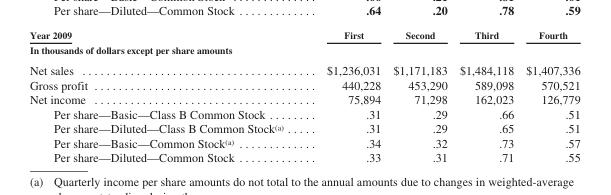table: (28, 29, 579, 163)
table column: (28, 29, 304, 163), (304, 29, 386, 163), (452, 29, 519, 163), (386, 29, 452, 163), (519, 29, 579, 163)
table column header: (28, 29, 579, 41)
table projected row header: (28, 41, 579, 59)
table row: (28, 41, 579, 59), (28, 59, 579, 77), (28, 77, 579, 92), (28, 120, 579, 135), (28, 92, 579, 106), (28, 106, 579, 120), (28, 135, 579, 149), (28, 149, 579, 163), (28, 29, 579, 41)
